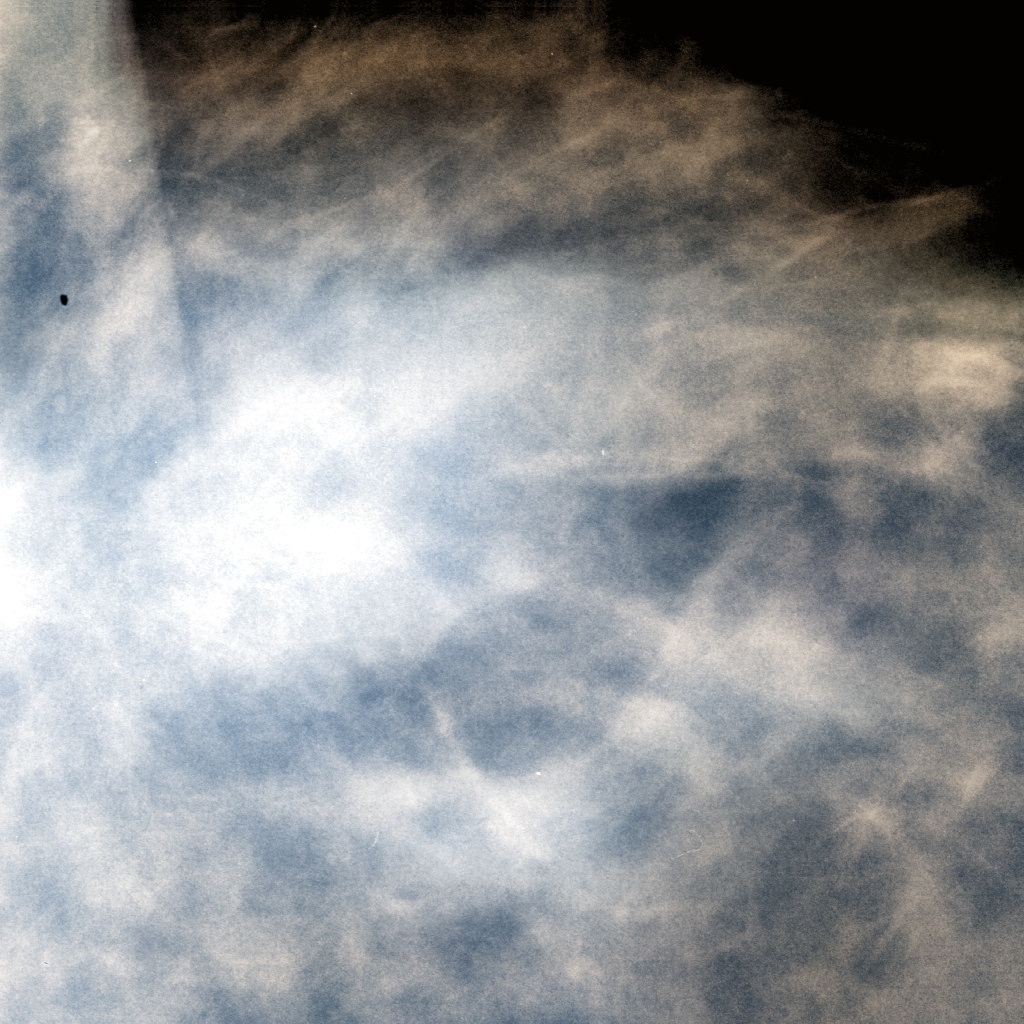tumor: (123, 253, 553, 771)
